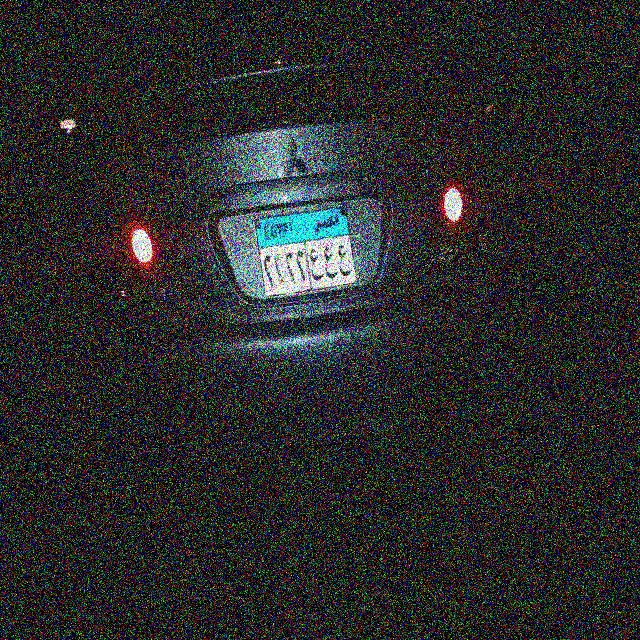License Plate: (252, 204, 358, 300)
